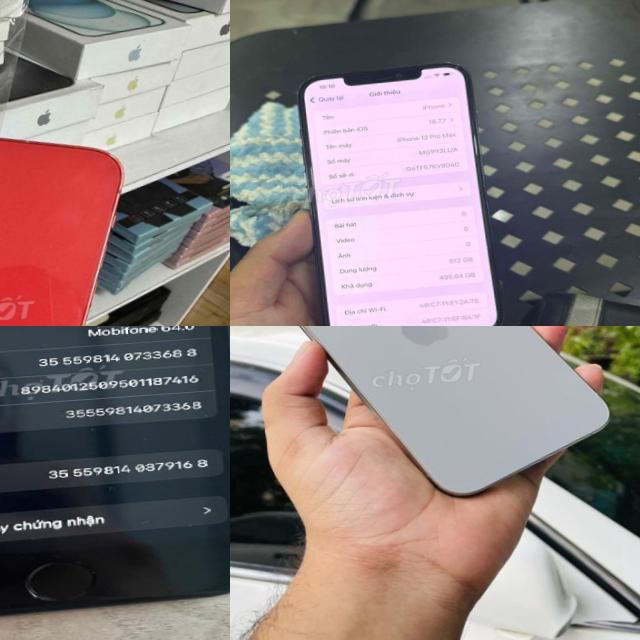gen_12_13: (292, 53, 503, 326), (0, 112, 148, 326)
gen_15: (234, 326, 622, 511)
gen_7_8: (0, 326, 230, 629)
